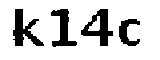1: (47, 8, 78, 48)
4: (80, 6, 115, 47)
c: (118, 18, 145, 50)
k: (8, 5, 43, 52)
